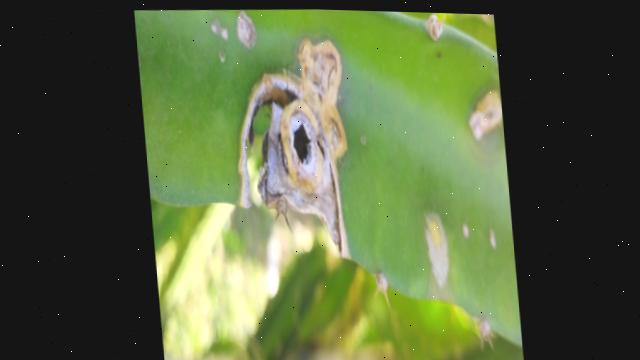stemcanker: (417, 206, 456, 292), (465, 83, 506, 146), (234, 10, 260, 52), (419, 12, 449, 47)
